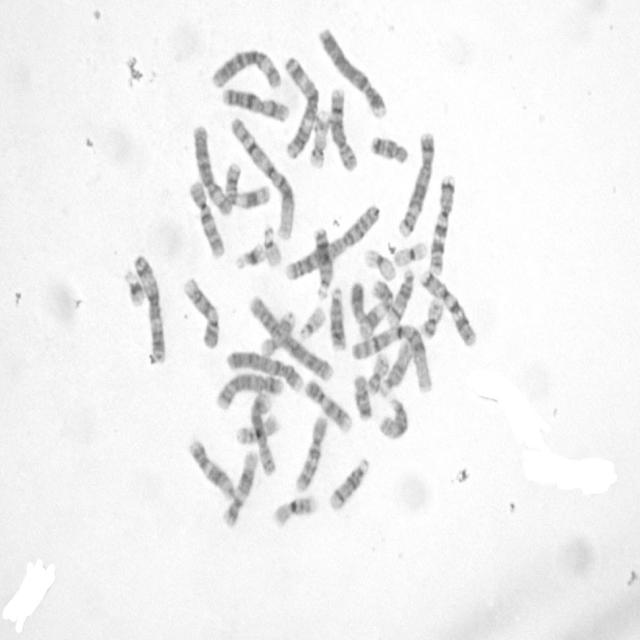A1: (229, 115, 296, 242), (350, 324, 433, 396)
A2: (247, 293, 336, 382), (284, 203, 381, 282)
A3: (284, 54, 320, 160), (134, 253, 167, 364)
B4: (316, 25, 389, 121), (224, 349, 304, 394)
B5: (398, 130, 437, 240), (213, 371, 284, 411)
C10: (189, 180, 226, 260), (293, 414, 329, 493)
C11: (223, 160, 271, 210), (358, 278, 394, 340)
C12: (220, 448, 258, 530), (187, 437, 235, 500)
C6: (191, 124, 233, 217), (212, 49, 283, 90)
C7: (419, 269, 479, 349), (427, 174, 458, 277)
C8: (330, 85, 360, 174), (249, 393, 278, 478)
C9: (304, 378, 354, 435), (182, 276, 220, 349)
D13: (312, 227, 335, 301), (329, 287, 348, 352)
D14: (328, 457, 372, 513), (384, 266, 415, 328)
D15: (379, 337, 414, 397), (378, 397, 408, 441)
E16: (236, 412, 282, 446), (273, 495, 319, 528)
E17: (258, 309, 296, 360), (308, 109, 330, 169)
E18: (368, 132, 411, 167), (352, 374, 373, 421)
F19: (364, 246, 397, 283), (393, 241, 428, 269)
F20: (365, 352, 391, 396), (420, 299, 444, 340)
G21: (232, 241, 267, 272), (124, 267, 146, 309)
G22: (299, 305, 326, 341), (263, 226, 283, 269)
X: (221, 86, 291, 124)
Y: (349, 280, 368, 323)
